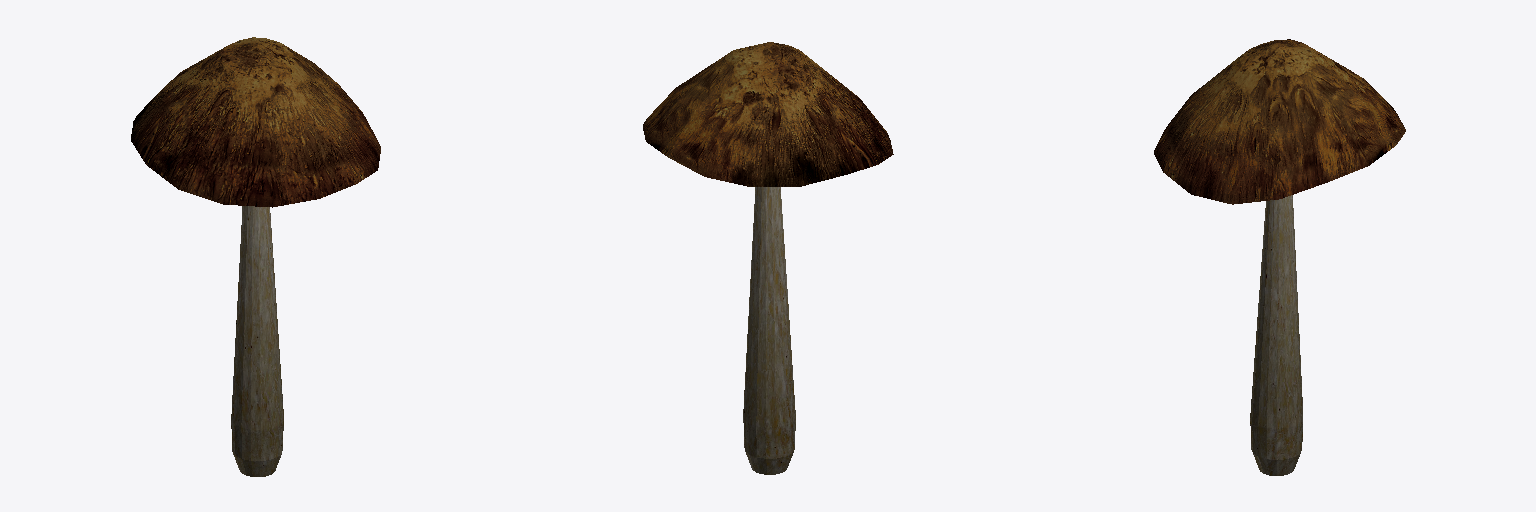
3 views of the same model, side by side, from view 1: azimuth 30°, elevation 25°; view 2: azimuth 150°, elevation 25°; view 3: azimuth 270°, elevation 25° (orthographic).
Visible parts, largest first — view 1: meshlamelladarkA; view 2: meshlamelladarkA; view 3: meshlamelladarkA.
Boxes of the visible parts, box(x1,y1,x2,y2) form: meshlamelladarkA: box(131, 37, 380, 476); meshlamelladarkA: box(643, 42, 893, 474); meshlamelladarkA: box(1154, 39, 1405, 475).
Size of the model in its own units: 2.8 by 5.18 by 2.8.
Materials: 1 (1 with a texture image).